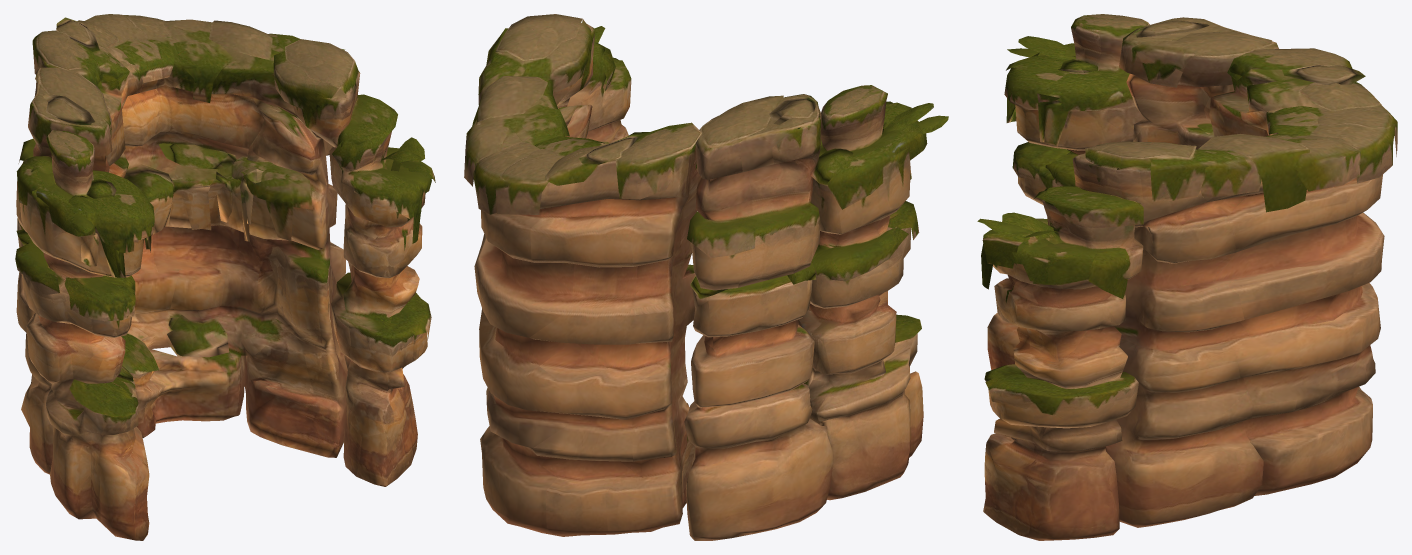
The model's file is cliff-bay.glb.
The picture shows the model from 3 angles, left to right: view 1: azimuth 30°, elevation 25°; view 2: azimuth 150°, elevation 25°; view 3: azimuth 270°, elevation 25°; orthographic projection. The views are drawn at different scales.
Visible parts, largest first — view 1: cliff-bay; view 2: cliff-bay; view 3: cliff-bay.
Boxes of the visible parts, x1=… form: cliff-bay: x1=15, y1=14, x2=435, y2=540; cliff-bay: x1=464, y1=14, x2=948, y2=540; cliff-bay: x1=977, y1=14, x2=1397, y2=540.
Size of the model in its own units: 1 by 1 by 1.
Materials: 1 (1 with a texture image).
